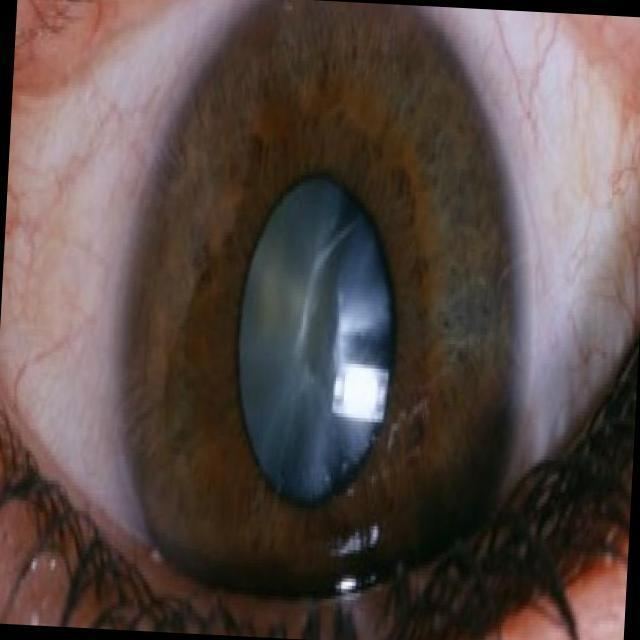Cataract: (166, 129, 478, 576)
